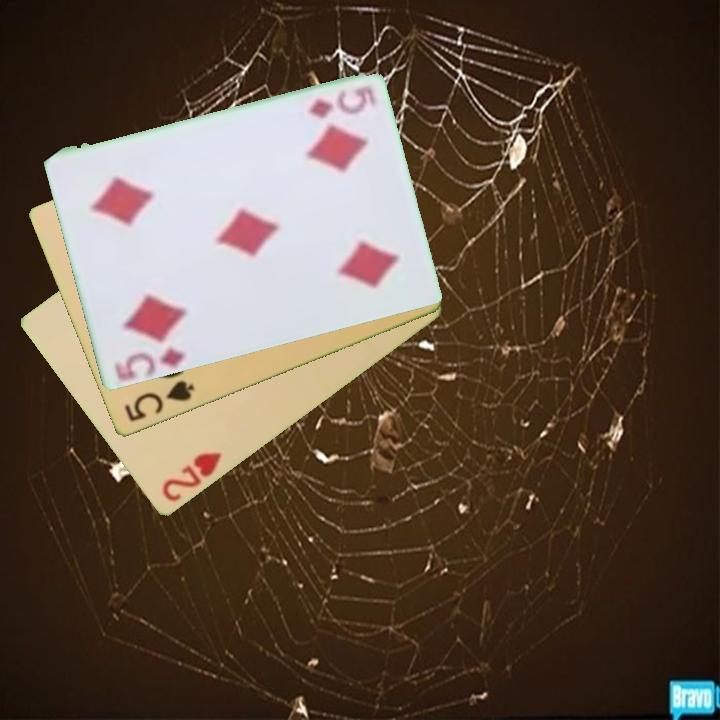2h: (158, 449, 225, 506)
5d: (305, 82, 378, 120), (113, 344, 189, 380)
5s: (120, 377, 198, 425)
